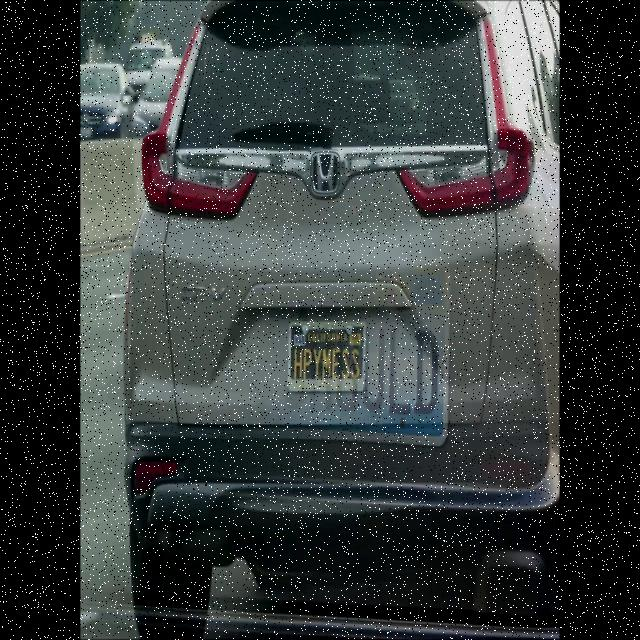licenseplate: (287, 320, 364, 390)
